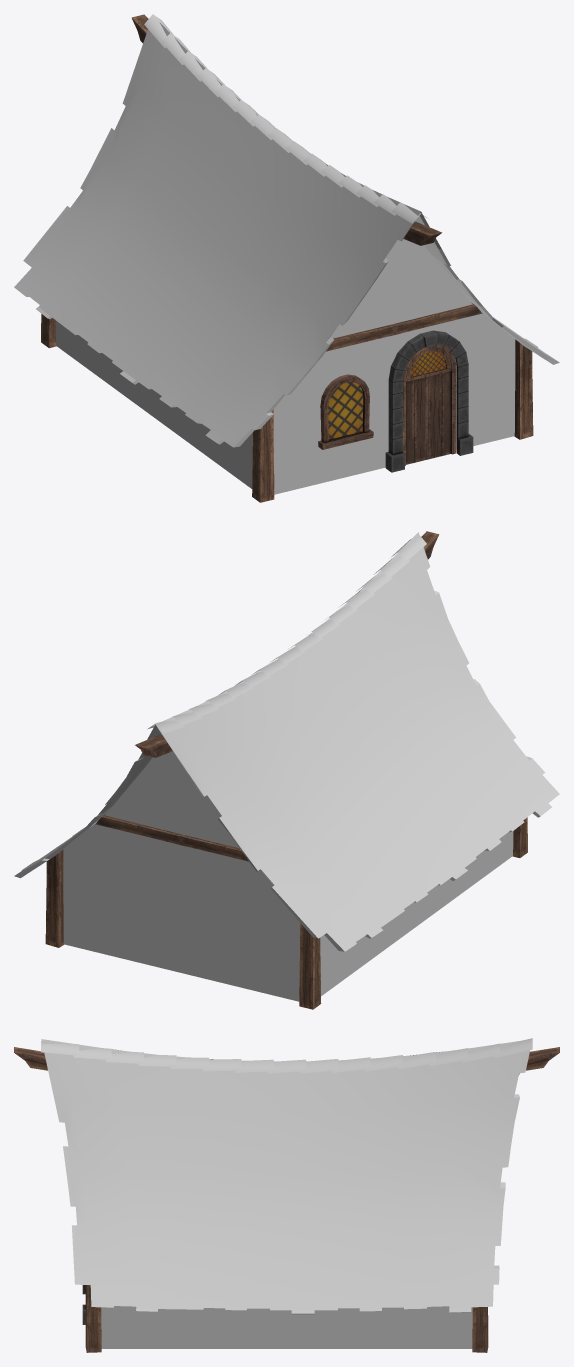
File: A_House_01.FBX
3 renders of one model, top to bottom at view 1: azimuth 30°, elevation 25°; view 2: azimuth 150°, elevation 25°; view 3: azimuth 270°, elevation 25°, orthographic. The views are drawn at different scales.
Visible parts, largest first — view 1: House_03; view 2: House_03; view 3: House_03.
Part boxes in pixels (box(x1,y1,x2,y2)): House_03: box(14, 14, 559, 502); House_03: box(14, 531, 559, 1009); House_03: box(14, 1038, 559, 1352).
Bounding box in the file's own units: 593 × 899 × 461.
